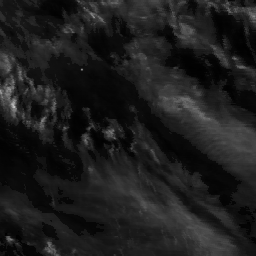Target: (79, 67, 84, 72)
